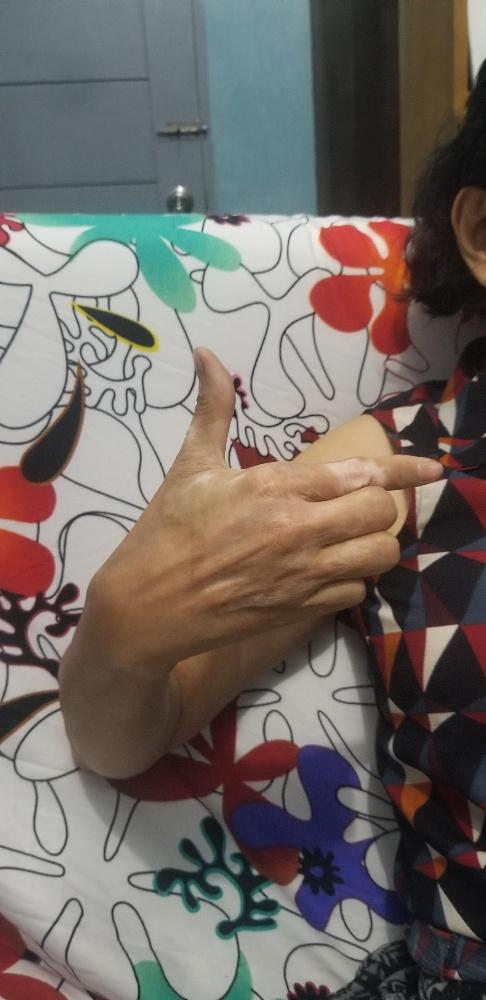g: (81, 343, 446, 666)
